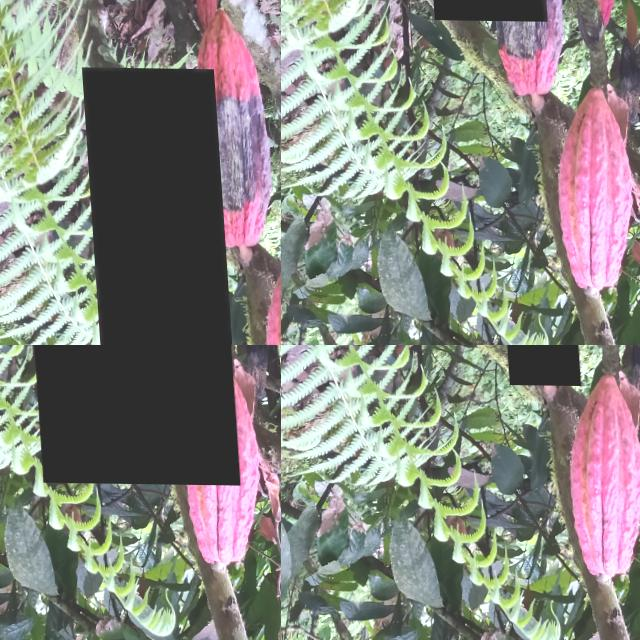Fitoftora: (79, 66, 233, 345), (626, 345, 640, 414)
Sana: (13, 345, 234, 484), (559, 371, 640, 575), (319, 241, 362, 345)
